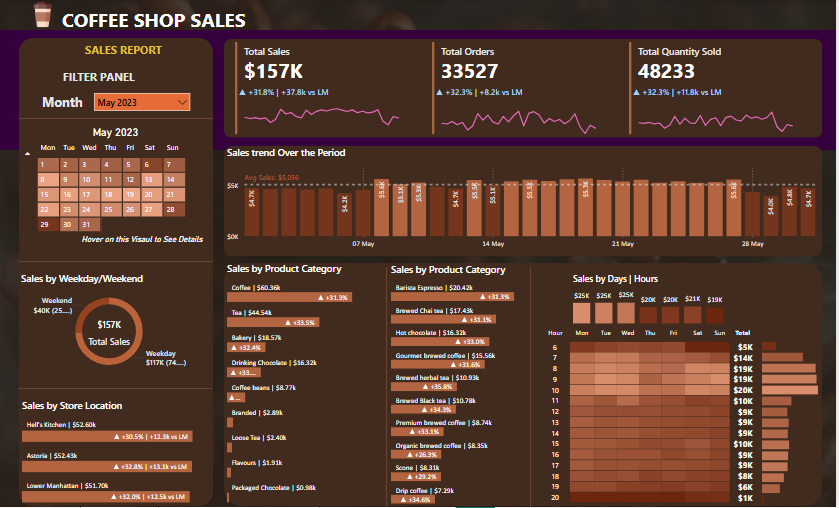

The page's visual inventory and layout, read from the dashboard file:
{"tool":"powerbi","page":{"name":"Report","canvas":[1400,850],"ordinal":0},"visuals":[{"type":"shape","box":[0,51.9,1400.5,200.8],"z":0},{"type":"shape","box":[31.8,65.3,324.6,783.1],"z":1000},{"type":"shape","box":[374.8,66.1,1001.3,165.4],"z":2000},{"type":"textbox","box":[84.5,7.3,343.6,58.8],"z":3000},{"type":"cardVisual","fields":{"Data":["Measure Table.Total Sales"]},"box":[387.7,66.1,299.5,165.4],"z":4000,"group":"g1"},{"type":"cardVisual","fields":{"Data":["Measure Table.Total Orders"]},"box":[717.6,66.1,299.5,165.4],"z":4000,"group":"g2"},{"type":"cardVisual","fields":{"Data":["Measure Table.Total Quantity Sold"]},"box":[1047.4,66.9,299.5,165.4],"z":4000,"group":"g3"},{"type":"slicer","fields":{"Values":["Date Table.Month Year"]},"box":[152.3,152.3,170.7,38.5],"z":4000},{"type":"group","id":"g1","title":"Group 1","box":[387.7,66.1,299.5,165.4],"z":5000},{"type":"group","id":"g2","title":"Group 1","box":[717.6,66.1,299.5,165.4],"z":6000},{"type":"lineChart","fields":{"Y":["Measure Table.Total Sales"],"Category":["Date Table.Date.Variation.Date Hierarchy.Year","Date Table.Date.Variation.Date Hierarchy.Quarter","Date Table.Date.Variation.Date Hierarchy.Month","Date Table.Date.Variation.Date Hierarchy.Day"]},"box":[395,146.9,286.6,84.5],"z":6000,"group":"g1"},{"type":"lineChart","fields":{"Category":["Date Table.Date.Variation.Date Hierarchy.Year","Date Table.Date.Variation.Date Hierarchy.Quarter","Date Table.Date.Variation.Date Hierarchy.Month","Date Table.Date.Variation.Date Hierarchy.Day"],"Y":["Measure Table.Total Orders"]},"box":[724.9,146.9,286.6,84.5],"z":6000,"group":"g2"},{"type":"lineChart","fields":{"Category":["Date Table.Date.Variation.Date Hierarchy.Year","Date Table.Date.Variation.Date Hierarchy.Quarter","Date Table.Date.Variation.Date Hierarchy.Month","Date Table.Date.Variation.Date Hierarchy.Day"],"Y":["Measure Table.Total Quantity Sold"]},"box":[1054.7,147.7,286.6,84.5],"z":6000,"group":"g3"},{"type":"group","id":"g3","title":"Group 1","box":[1047.4,66.9,299.5,164],"z":7000},{"type":"pivotTable","fields":{"Rows":["Date Table.Weeek Number"],"Columns":["Date Table.Day Name"],"Values":["Min(Date Table.Day Number)"]},"box":[31.8,230.9,302.9,190.7],"z":8000},{"type":"card","fields":{"Values":["Min(Date Table.Month Year)"]},"box":[100.4,200.8,185.7,45.2],"z":9000},{"type":"card","fields":{"Values":["Measure Table.Foot Note"]},"box":[100.4,386.5,274.4,35.1],"z":10000},{"type":"shape","box":[31.8,421.7,324.6,35.1],"z":11000},{"type":"shape","box":[31.8,182.4,324.6,35.1],"z":12000},{"type":"donutChart","title":"Sales by Weekday/Weekend","fields":{"Category":["Date Table.Weekday/Weekend"],"Y":["Measure Table.Total Sales"]},"box":[30.1,456.8,304.5,177.4],"z":13000},{"type":"card","fields":{"Values":["Measure Table.Total Sales"]},"box":[127.2,523.7,110.4,66.9],"z":14000},{"type":"shape","box":[30.1,634.2,324.6,35.1],"z":15000},{"type":"clusteredBarChart","title":"Sales by Store Location","fields":{"Category":["Transactions.store_location"],"Y":["Measure Table.Placeholder","Measure Table.Total Sales"]},"box":[31.8,669.3,322.9,180.7],"z":16000},{"type":"shape","box":[374.8,246,1000.6,185],"z":17000},{"type":"columnChart","title":"Sales trend Over the Period","fields":{"Category":["Transactions.transaction_date"],"Y":["Measure Table.Total Sales"]},"box":[374.8,246,1000.6,179],"z":18000},{"type":"shape","box":[374.8,441.7,1000.6,406.6],"z":19000},{"type":"clusteredBarChart","title":"Sales by Product Category","fields":{"Y":["Measure Table.Placeholder","Measure Table.Total Sales"],"Category":["Transactions.product_category"]},"box":[374.8,440.1,250,408.3],"z":20000},{"type":"shape","box":[875.1,448.4,25.1,401.6],"z":21000},{"type":"clusteredBarChart","title":"Sales by Product Category","fields":{"Y":["Measure Table.Placeholder","Measure Table.Total Sales"],"Category":["Transactions.product_type"]},"box":[649.2,441.7,249.3,408.3],"z":22000},{"type":"shape","box":[634.1,448.4,25.1,401.6],"z":23000},{"type":"pivotTable","fields":{"Rows":["Transactions.Hour"],"Columns":["Date Table.Day Name"],"Values":["Measure Table.Total Sales"]},"box":[900.2,545.5,370,304.5],"z":24000},{"type":"barChart","fields":{"Category":["Transactions.Hour"],"Y":["Measure Table.Total Sales"]},"box":[1270,560.5,105.4,289.5],"z":25000},{"type":"columnChart","title":"Sales by Days | Hours","fields":{"Y":["Measure Table.Total Sales"],"Category":["Date Table.Day Name"]},"box":[953.7,456.8,262.7,92],"z":26000},{"type":"textbox","box":[65.3,152.3,87,38.5],"z":27000},{"type":"textbox","box":[127.2,66.9,159,45.2],"z":28000},{"type":"textbox","box":[100.4,112.1,155.6,35.1],"z":29000},{"type":"image","box":[43.5,0,56.9,51.9],"z":30000}]}

Visuals, with their boxes in screenshot pixels (x1, y1, x2, y2), scaled from the page's 1400x850 canvas onto the 839x508 screenshot:
shape: 0,31,838,151
shape: 19,39,214,507
shape: 225,40,825,138
textbox: 51,4,257,40
cardVisual - Measure Table.Total Sales: 232,40,412,138
cardVisual - Measure Table.Total Orders: 430,40,610,138
cardVisual - Measure Table.Total Quantity Sold: 628,40,807,139
slicer - Date Table.Month Year: 91,91,194,114
"Group 1" group: 232,40,412,138
"Group 1" group: 430,40,610,138
lineChart - Measure Table.Total Sales x Date Table.Date.Variation.Date Hierarchy.Year: 237,88,408,138
lineChart - Date Table.Date.Variation.Date Hierarchy.Year x Date Table.Date.Variation.Date Hierarchy.Quarter: 434,88,606,138
lineChart - Date Table.Date.Variation.Date Hierarchy.Year x Date Table.Date.Variation.Date Hierarchy.Quarter: 632,88,804,139
"Group 1" group: 628,40,807,138
pivotTable - Date Table.Weeek Number x Date Table.Day Name: 19,138,201,252
card - Min(Date Table.Month Year): 60,120,171,147
card - Measure Table.Foot Note: 60,231,225,252
shape: 19,252,214,273
shape: 19,109,214,130
"Sales by Weekday/Weekend" donutChart: 18,273,201,379
card - Measure Table.Total Sales: 76,313,142,353
shape: 18,379,213,400
"Sales by Store Location" clusteredBarChart: 19,400,213,507
shape: 225,147,824,258
"Sales trend Over the Period" columnChart: 225,147,824,254
shape: 225,264,824,507
"Sales by Product Category" clusteredBarChart: 225,263,374,507
shape: 524,268,539,507
"Sales by Product Category" clusteredBarChart: 389,264,538,507
shape: 380,268,395,507
pivotTable - Transactions.Hour x Date Table.Day Name: 539,326,761,507
barChart - Transactions.Hour x Measure Table.Total Sales: 761,335,824,507
"Sales by Days | Hours" columnChart: 572,273,729,328
textbox: 39,91,91,114
textbox: 76,40,172,67
textbox: 60,67,153,88
image: 26,0,60,31
